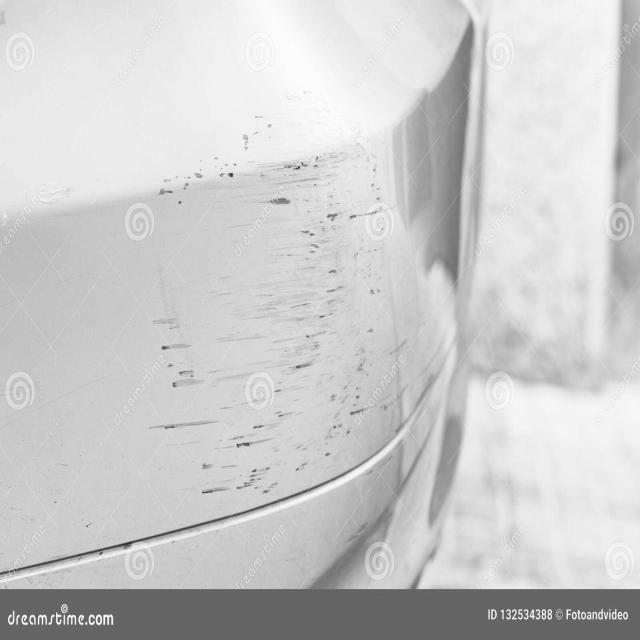scratch: (134, 88, 434, 516)
